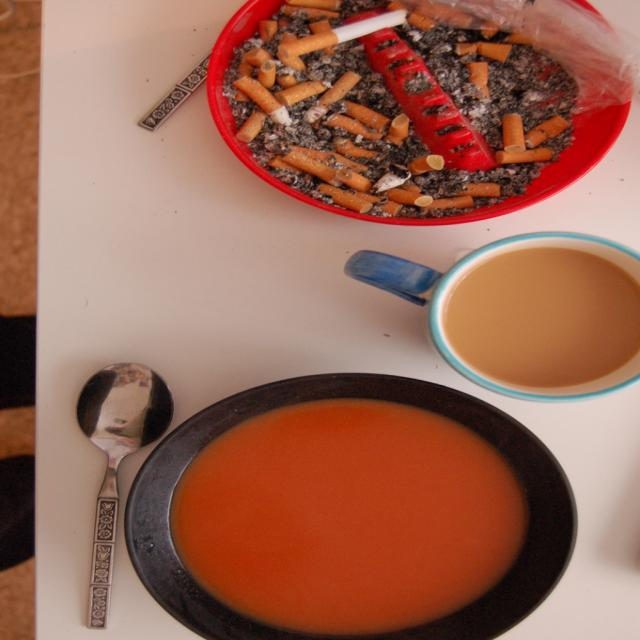Tea: (444, 248, 640, 388)
